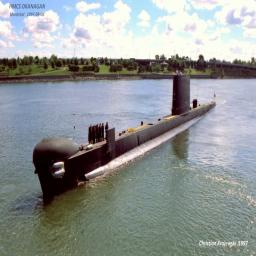submarine: (43, 68, 221, 207)
